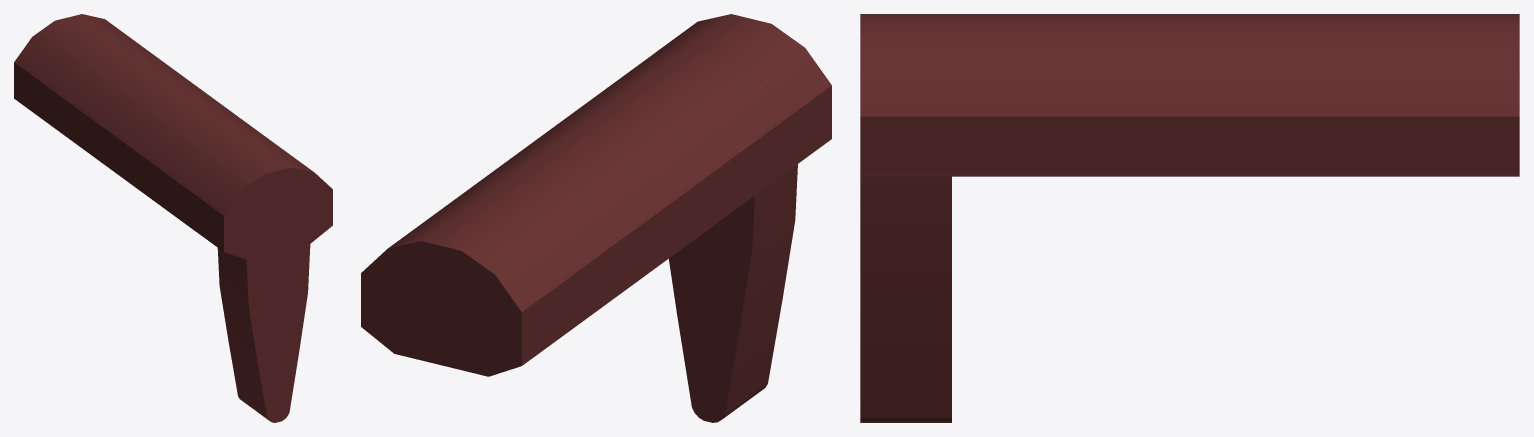
The model's file is Stock_3.fbx.
The picture shows the model from 3 angles, left to right: view 1: azimuth 30°, elevation 25°; view 2: azimuth 150°, elevation 25°; view 3: azimuth 270°, elevation 25°; orthographic projection. The views are drawn at different scales.
Visible parts, largest first — view 1: Stock_3; view 2: Stock_3; view 3: Stock_3.
Part boxes in pixels (box(x1,y1,x2,y2)): Stock_3: box(14, 14, 332, 422); Stock_3: box(361, 14, 831, 422); Stock_3: box(860, 14, 1519, 422).
Size of the model in its own units: 0.2139 by 0.4719 by 0.7141.
